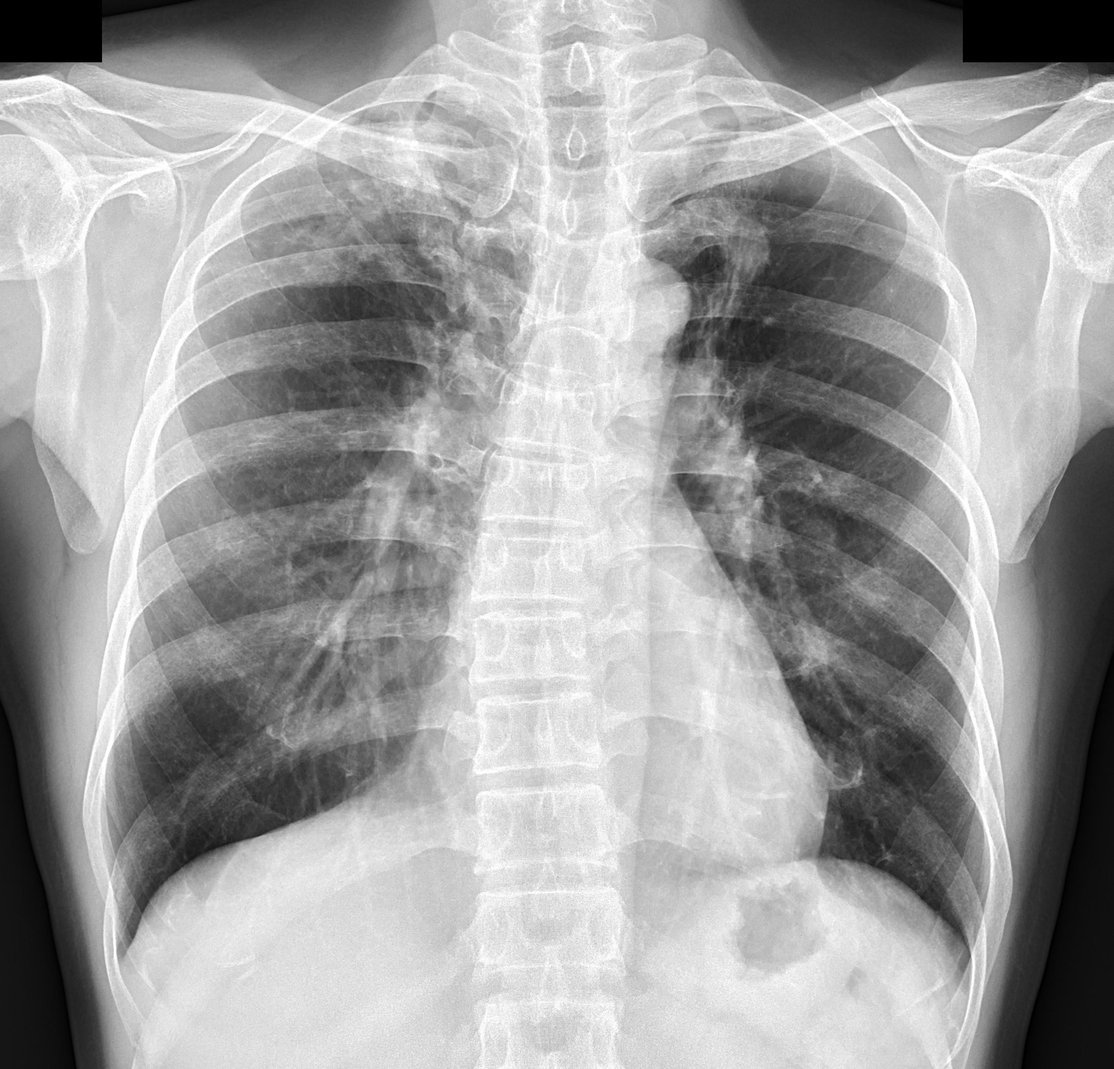Pulmonary fibrosis: (224, 160, 414, 291), (718, 213, 770, 275)
